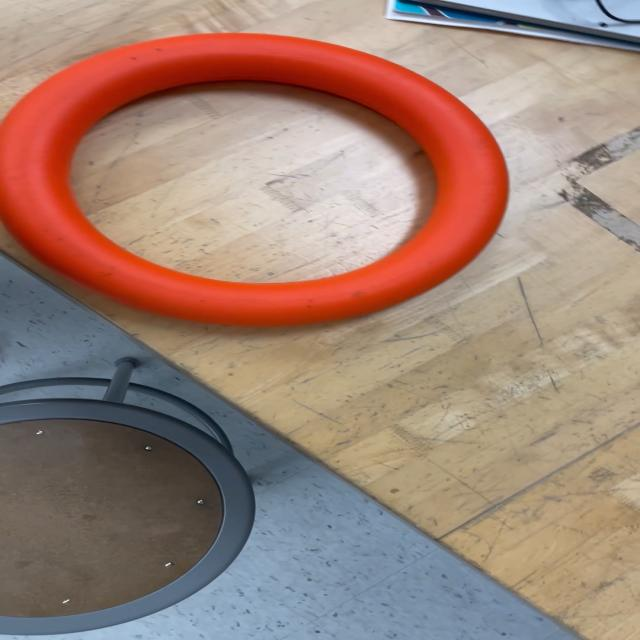note: (0, 31, 512, 327)
